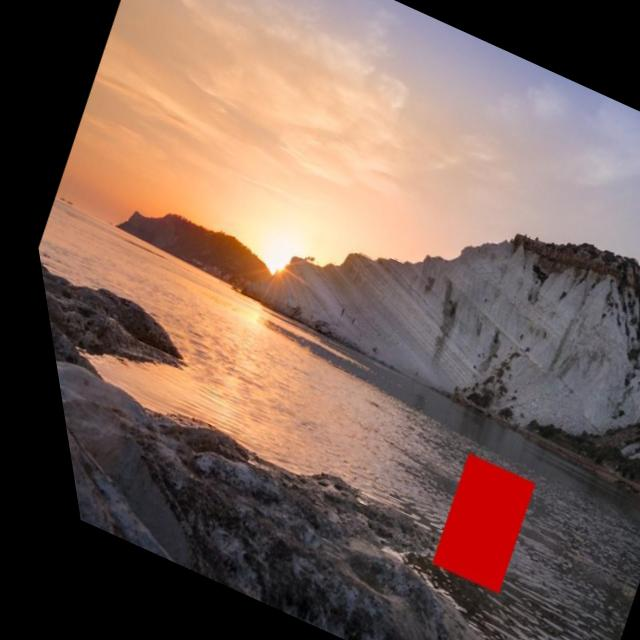RedSquare: (390, 442, 541, 602)
